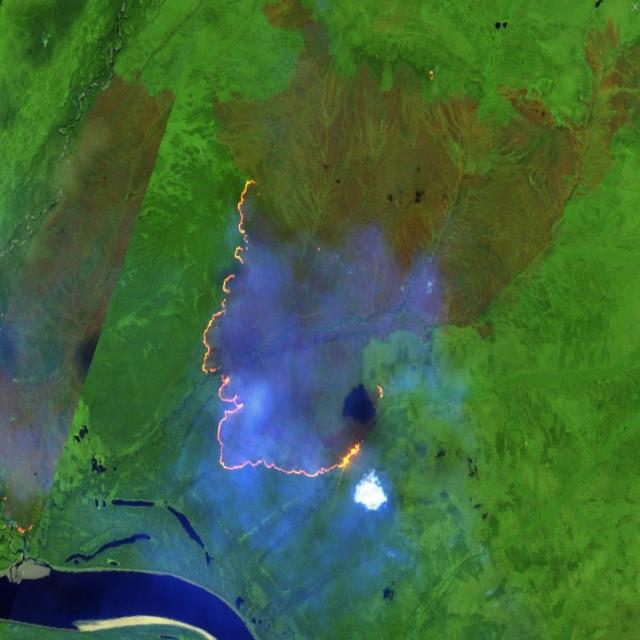fire: (196, 171, 392, 489)
